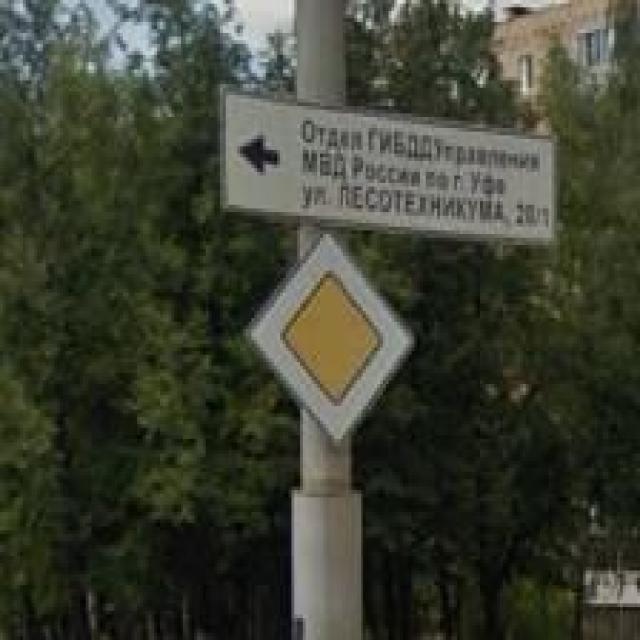Droga z pierwszenstwem: (240, 227, 420, 453)
